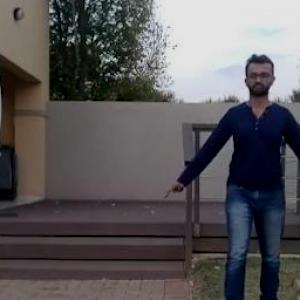land: (177, 67, 300, 299)
